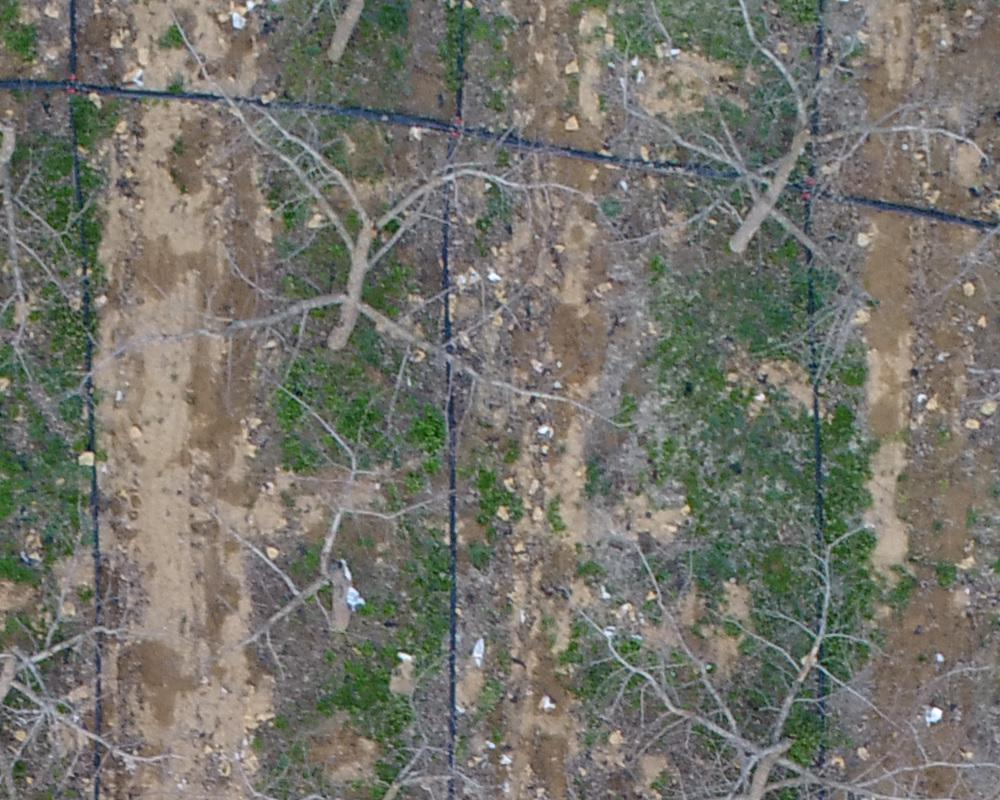apple: (179, 60, 560, 410), (616, 10, 990, 320), (557, 531, 990, 790), (199, 387, 479, 667)
